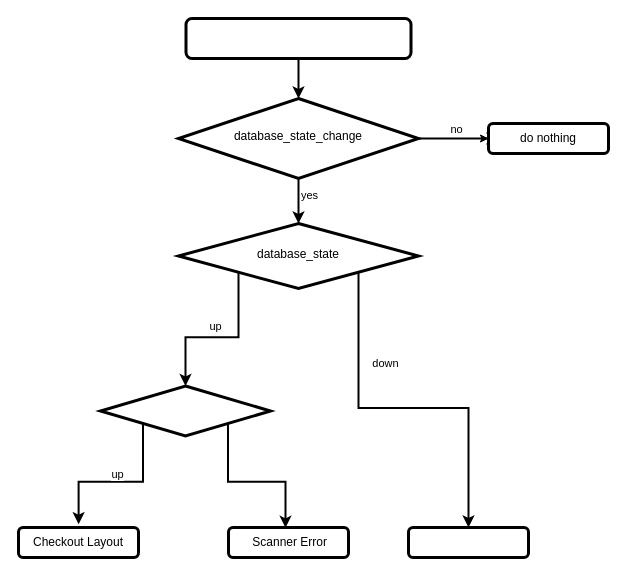
Image size: 627x576. Some labels were removed from this diagram. The box of each missing label's shape, as (x1, y1, x2, y2) in pixels:
ensureDatabaseConnection(): (184, 16, 412, 60)
Error Layout: (406, 526, 530, 558)
scanner_state: (98, 384, 272, 437)
